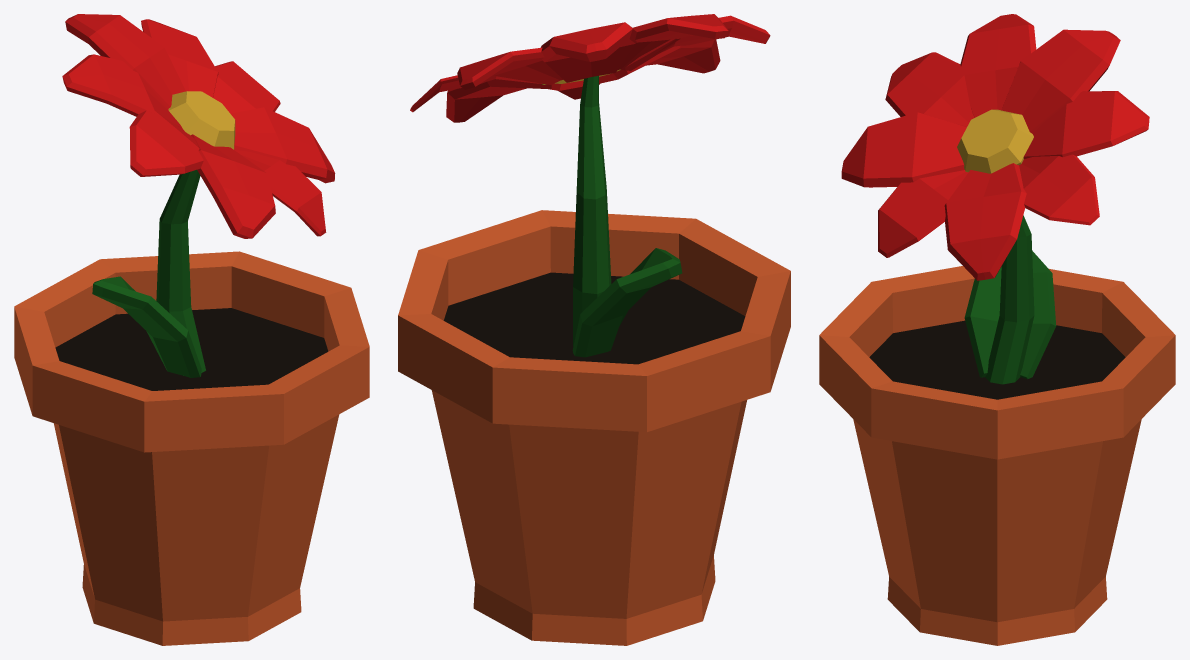
File: FlowerPot.obj
3 views of the same model, side by side, from view 1: azimuth 30°, elevation 25°; view 2: azimuth 150°, elevation 25°; view 3: azimuth 270°, elevation 25° (orthographic). The views are drawn at different scales.
Parts seen in each view (by area): view 1: Circle; view 2: Circle; view 3: Circle.
Part boxes in pixels (bbox=[...]): Circle: bbox=[14, 14, 369, 645]; Circle: bbox=[398, 14, 790, 645]; Circle: bbox=[819, 14, 1175, 645].
Bounding box in the file's own units: 3 × 5.02 × 3.
